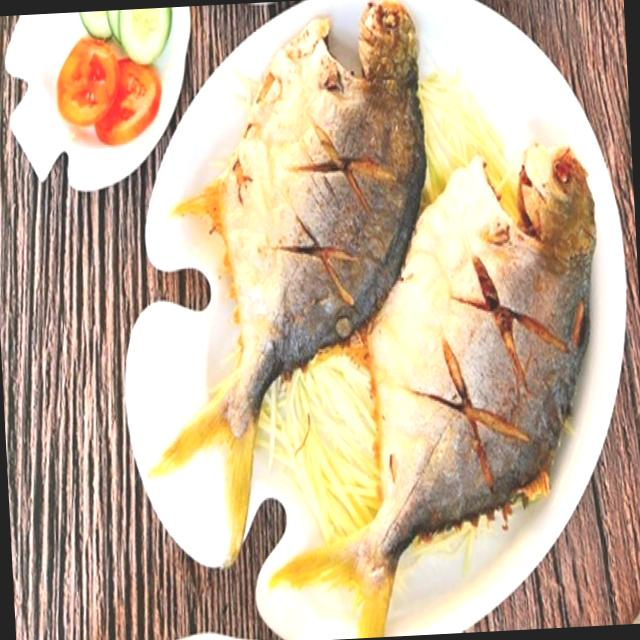ca chien: (274, 147, 595, 637), (201, 0, 426, 438)
ca chua: (58, 38, 162, 144)
dua leo: (80, 7, 172, 64)
